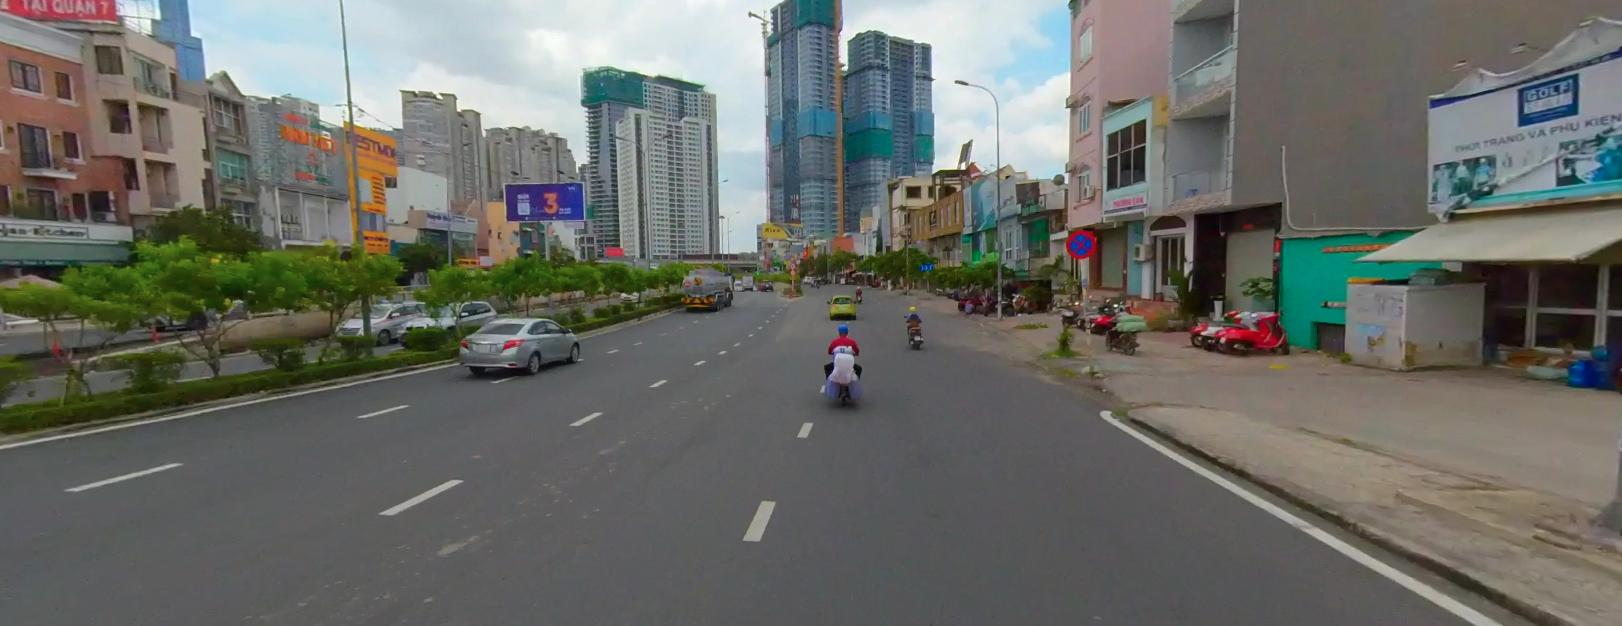Cam dung va do: (1064, 227, 1097, 257)
